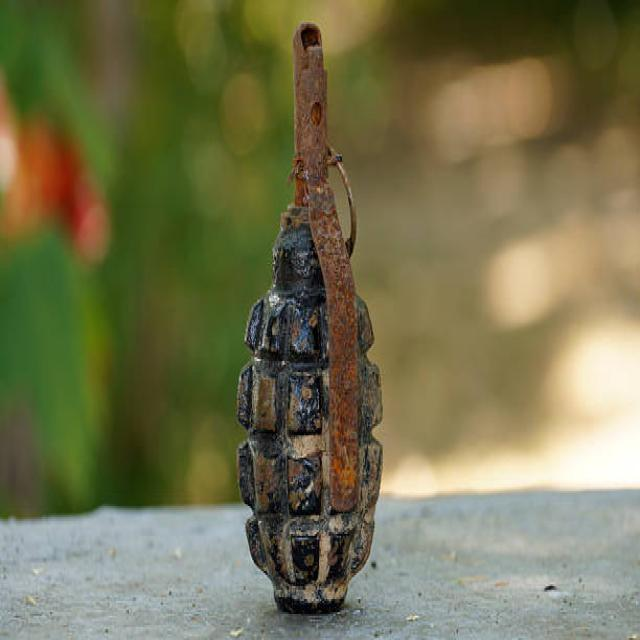grenade: (229, 15, 394, 624)
